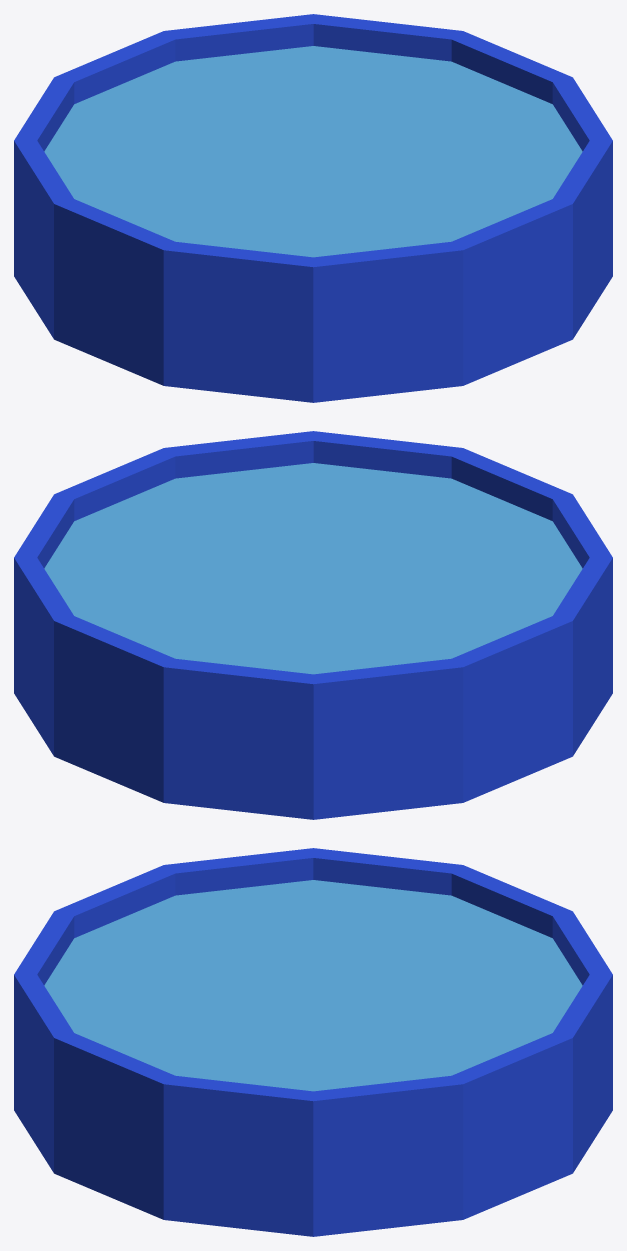
Rendered from pool_01.fbx.
3 views of the same model, one above another, from view 1: azimuth 30°, elevation 25°; view 2: azimuth 150°, elevation 25°; view 3: azimuth 270°, elevation 25° (orthographic).
Visible parts, largest first — view 1: pool_01; view 2: pool_01; view 3: pool_01.
Boxes of the visible parts, left/top/right/bottom form: pool_01: left=14, top=14, right=612, bottom=402; pool_01: left=14, top=431, right=612, bottom=819; pool_01: left=14, top=848, right=612, bottom=1236.
Size of the model in its own units: 300 by 75 by 300.
